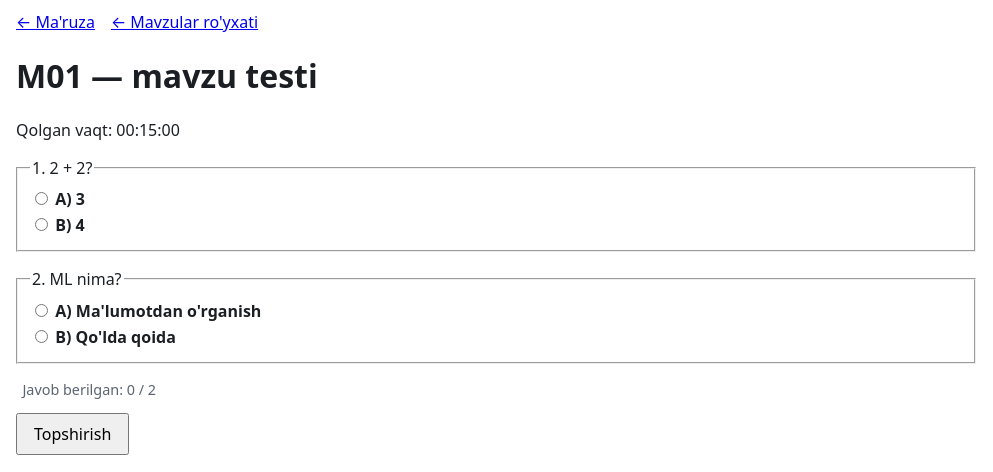
mavzu testi (CNT-06) › vaqt tugab server rad etsa — xabar
What coordinates should you click on to do the following:
click the button "Topshirish"
I would click on:
 (73, 434)
Its box is [16,414,129,456].
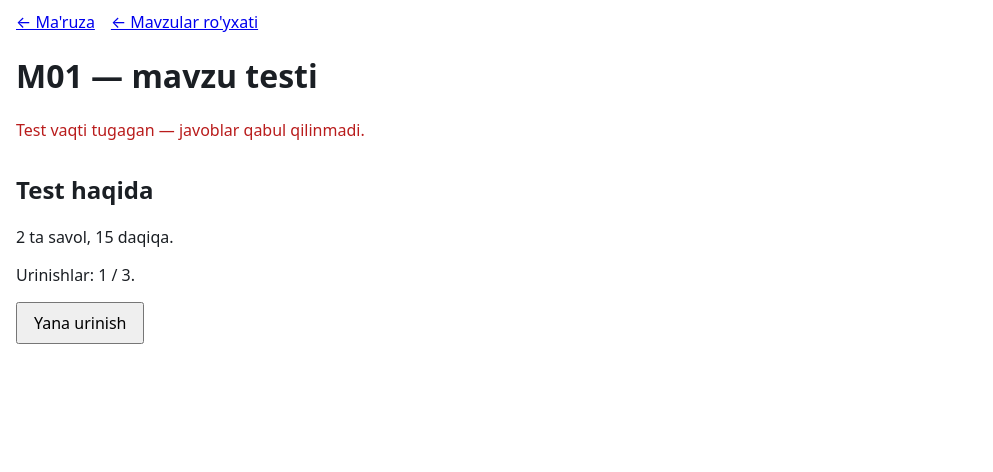
Expected: the message reads "Test vaqti tugagan — javoblar qabul qilinmadi.", [16,119,365,141]
